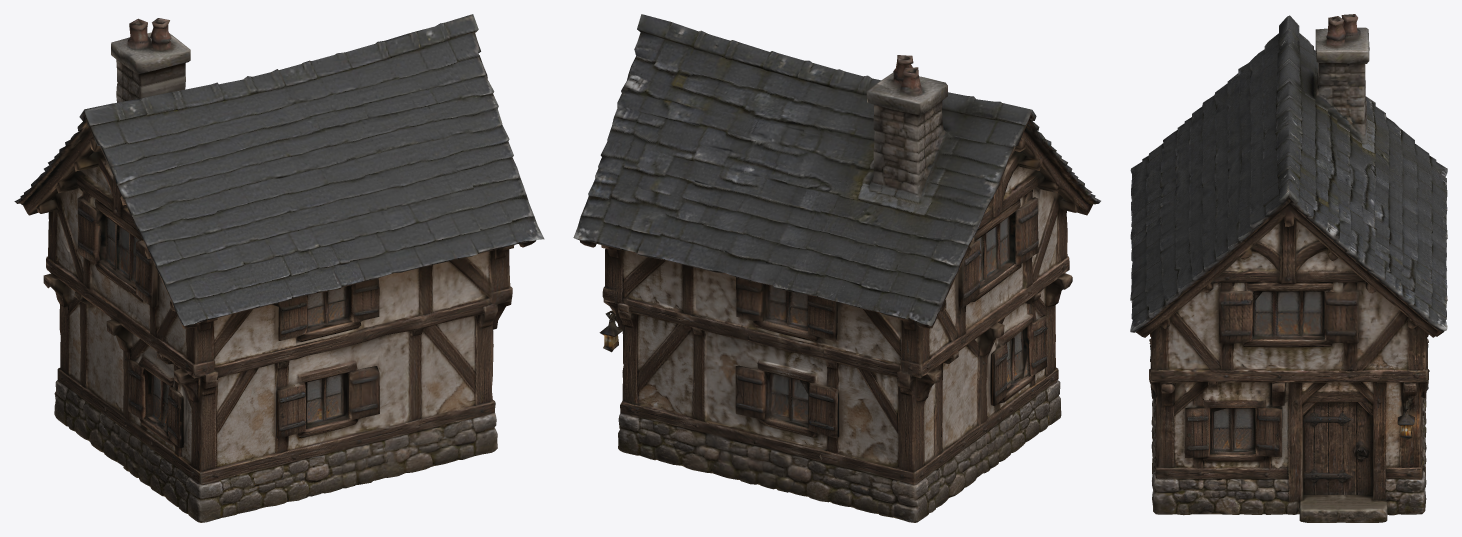
The model's file is house_a.glb.
The picture shows the model from 3 angles, left to right: view 1: azimuth 30°, elevation 25°; view 2: azimuth 150°, elevation 25°; view 3: azimuth 270°, elevation 25°; orthographic projection. The views are drawn at different scales.
Visible parts, largest first — view 1: tripo_node_2ff3b0ea-ce6f-4abc-b199-7467b1973aca; view 2: tripo_node_2ff3b0ea-ce6f-4abc-b199-7467b1973aca; view 3: tripo_node_2ff3b0ea-ce6f-4abc-b199-7467b1973aca.
Part boxes in pixels (left/top/right/bottom): tripo_node_2ff3b0ea-ce6f-4abc-b199-7467b1973aca: left=14, top=14, right=544, bottom=522; tripo_node_2ff3b0ea-ce6f-4abc-b199-7467b1973aca: left=573, top=14, right=1100, bottom=522; tripo_node_2ff3b0ea-ce6f-4abc-b199-7467b1973aca: left=1130, top=14, right=1447, bottom=522.
Bounding box in the file's own units: 0.9561 × 0.9791 × 0.7281.
Materials: 1 (1 with a texture image).
